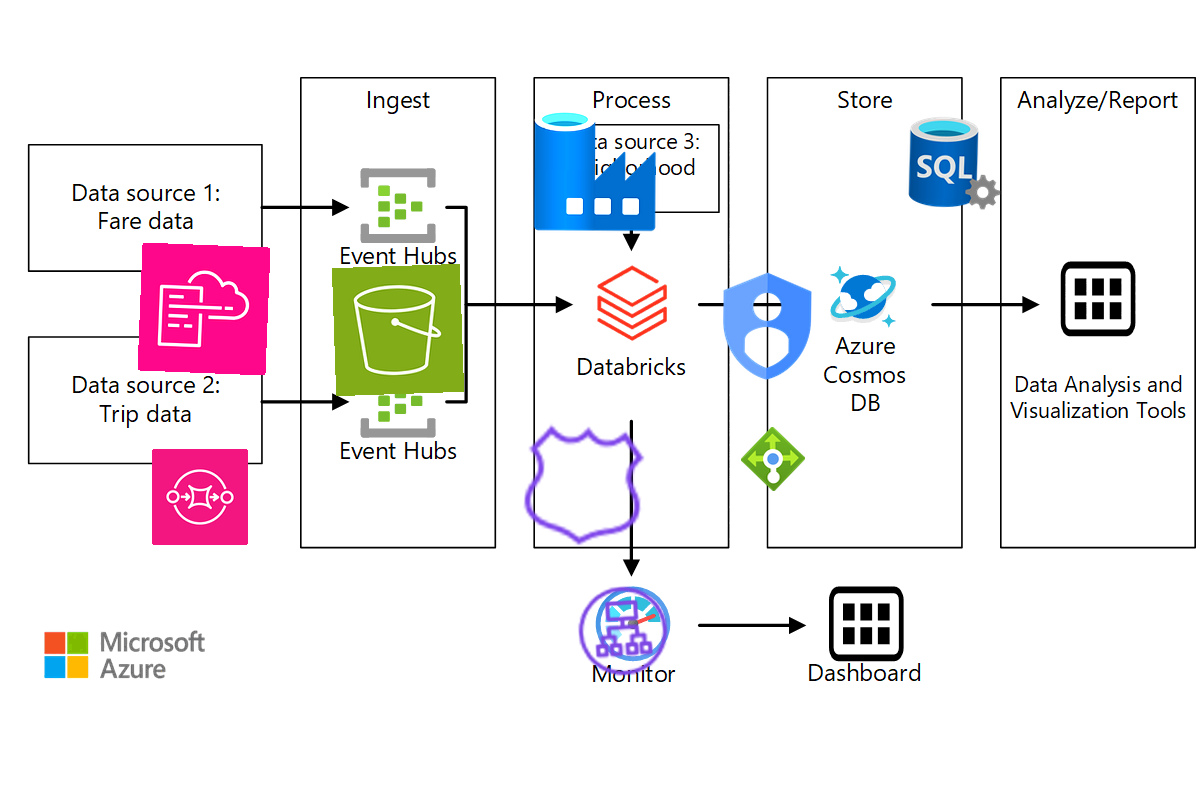aws_amazon_simple_queue_service: (151, 448, 249, 546)
aws_amazon_simple_storage_service: (331, 263, 465, 397)
aws_cloudformation: (137, 242, 271, 376)
aws_elastic_load_balancing_application_load_balancer: (571, 579, 675, 683)
aws_route_53_hosted_zone: (515, 416, 655, 556)
azure_data_factories: (530, 105, 660, 235)
azure_load_balancers: (740, 426, 806, 492)
azure_sql_server: (905, 113, 1005, 213)
gcp_identity_and_access_management: (702, 261, 832, 391)
